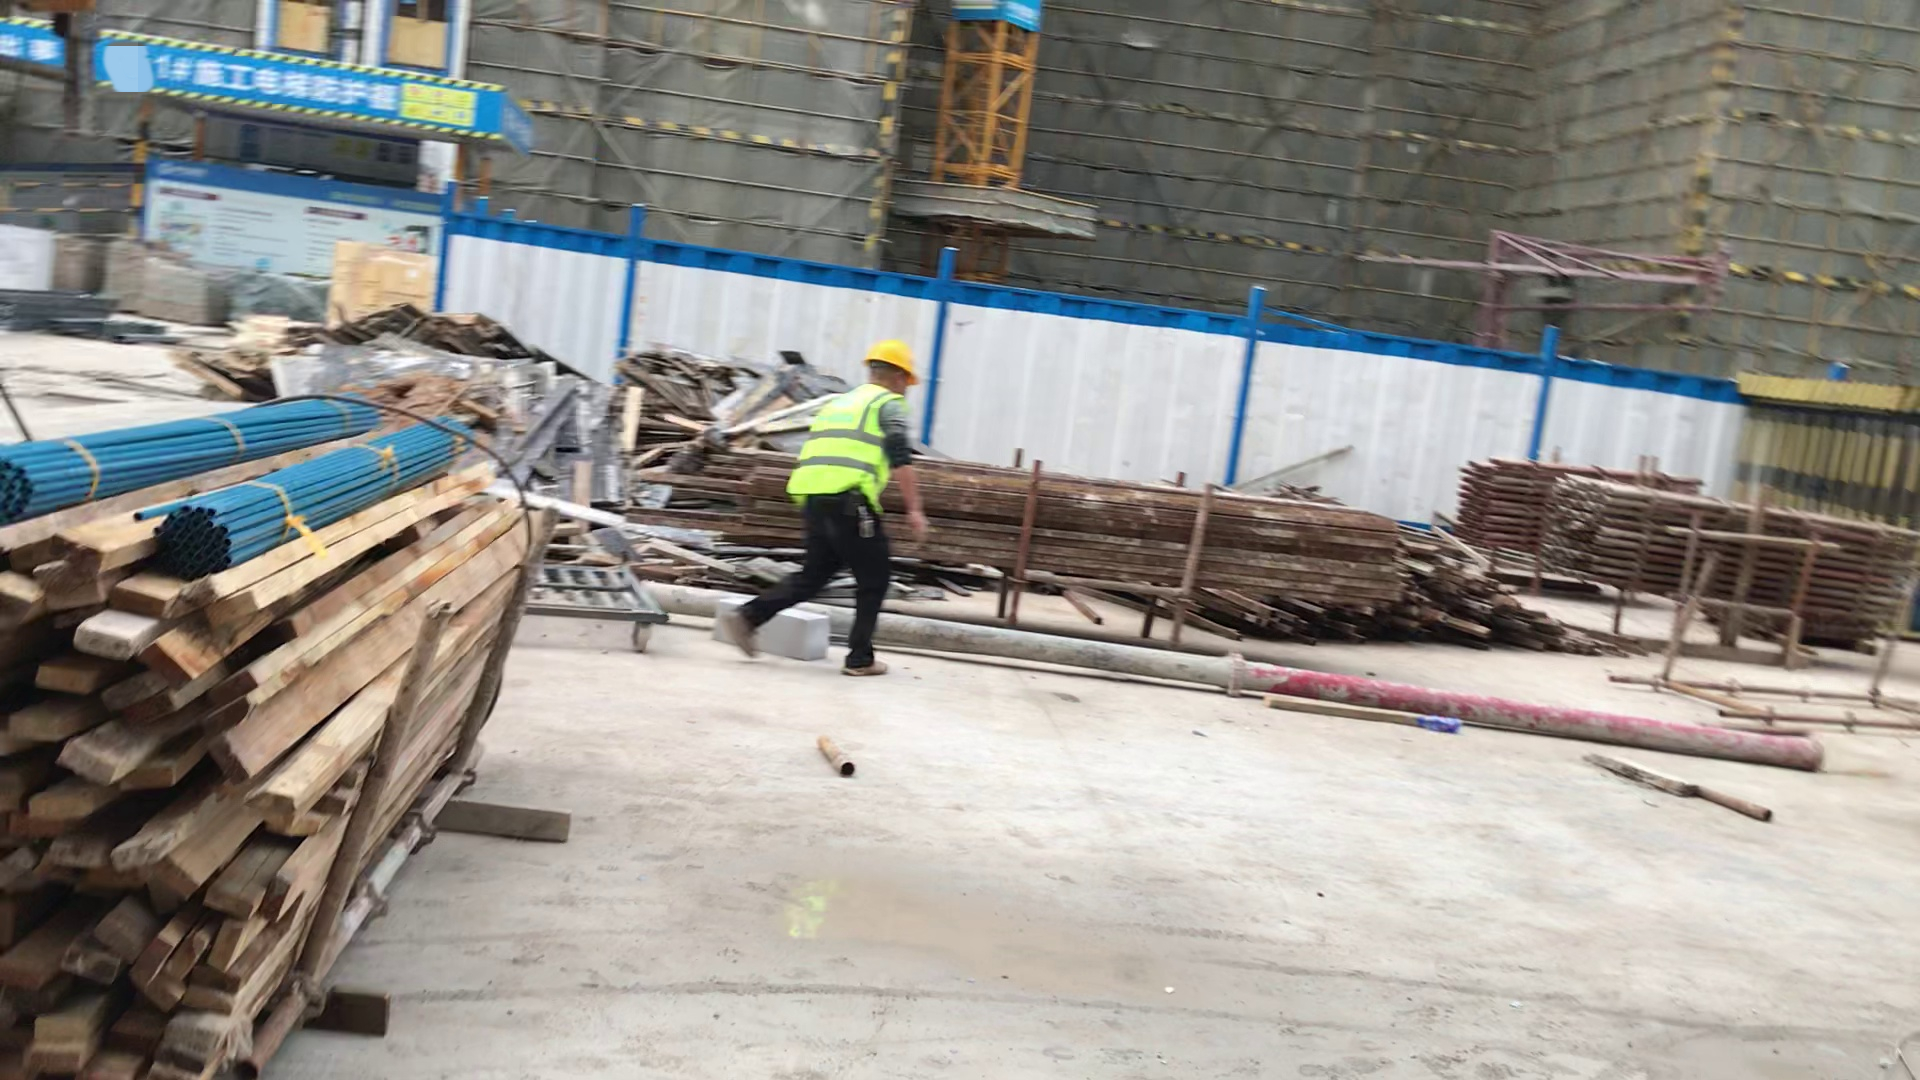brick: (3, 203, 245, 322), (704, 588, 842, 684)
fence: (4, 164, 156, 239)
helmet: (856, 327, 928, 395)
person: (698, 327, 962, 703)
scaffold: (1457, 446, 1919, 665)
slogan: (1, 18, 511, 145), (146, 151, 444, 282), (483, 88, 554, 155), (937, 1, 1053, 42)
vest: (784, 388, 909, 514)
wood: (1, 339, 571, 1080)
